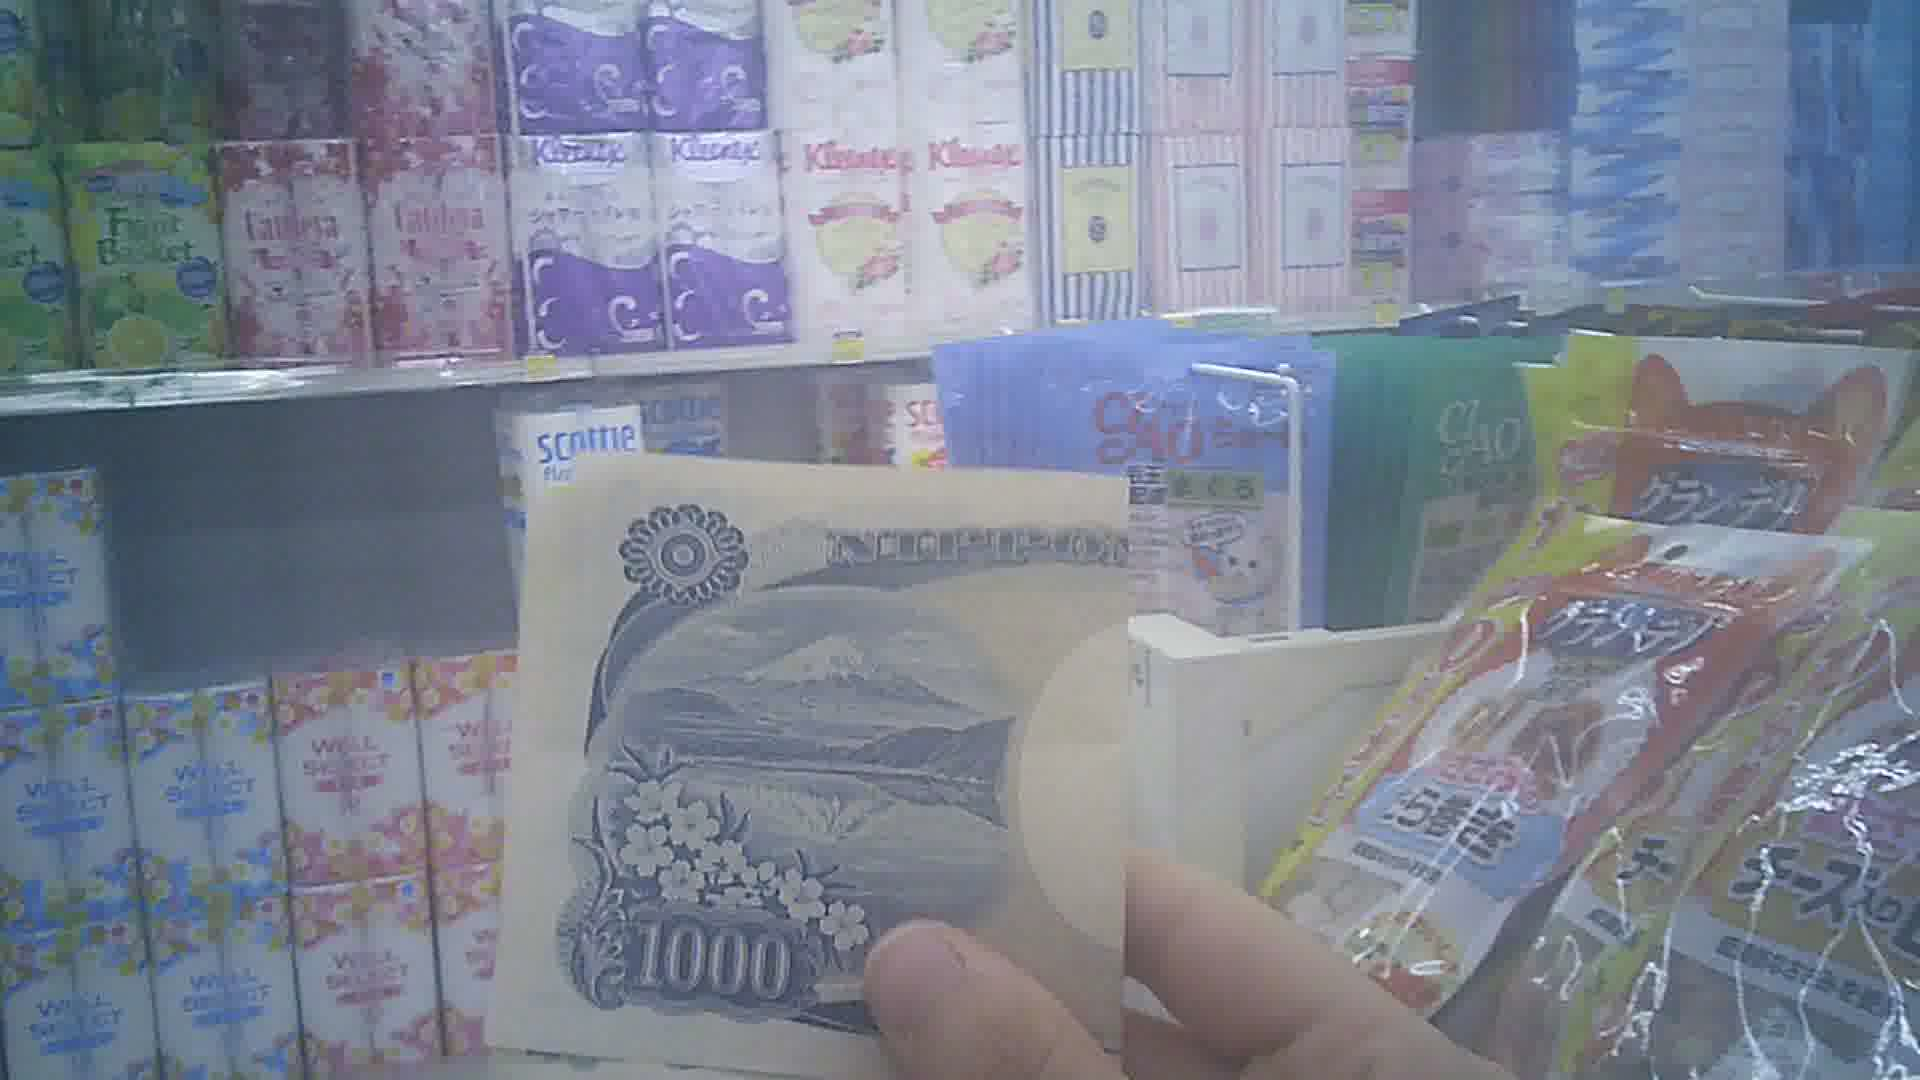1,000 Yen: (498, 440, 1120, 1065)
